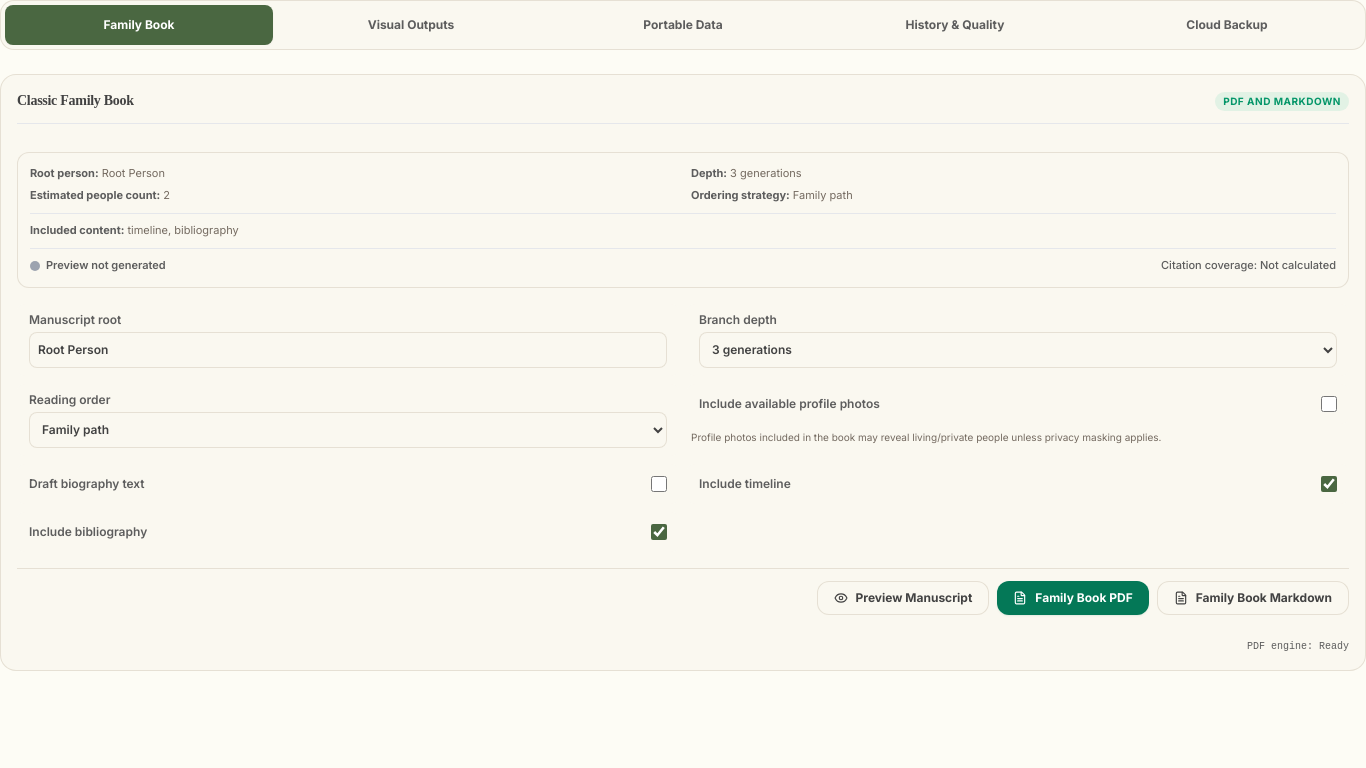
it: ExportCloudPanel cloud readiness › clears a pending cloud confirmation when the user leaves the section
Click the tab "Cloud Backup" at {"x": 1227, "y": 25}, box [1093,5,1361,45]
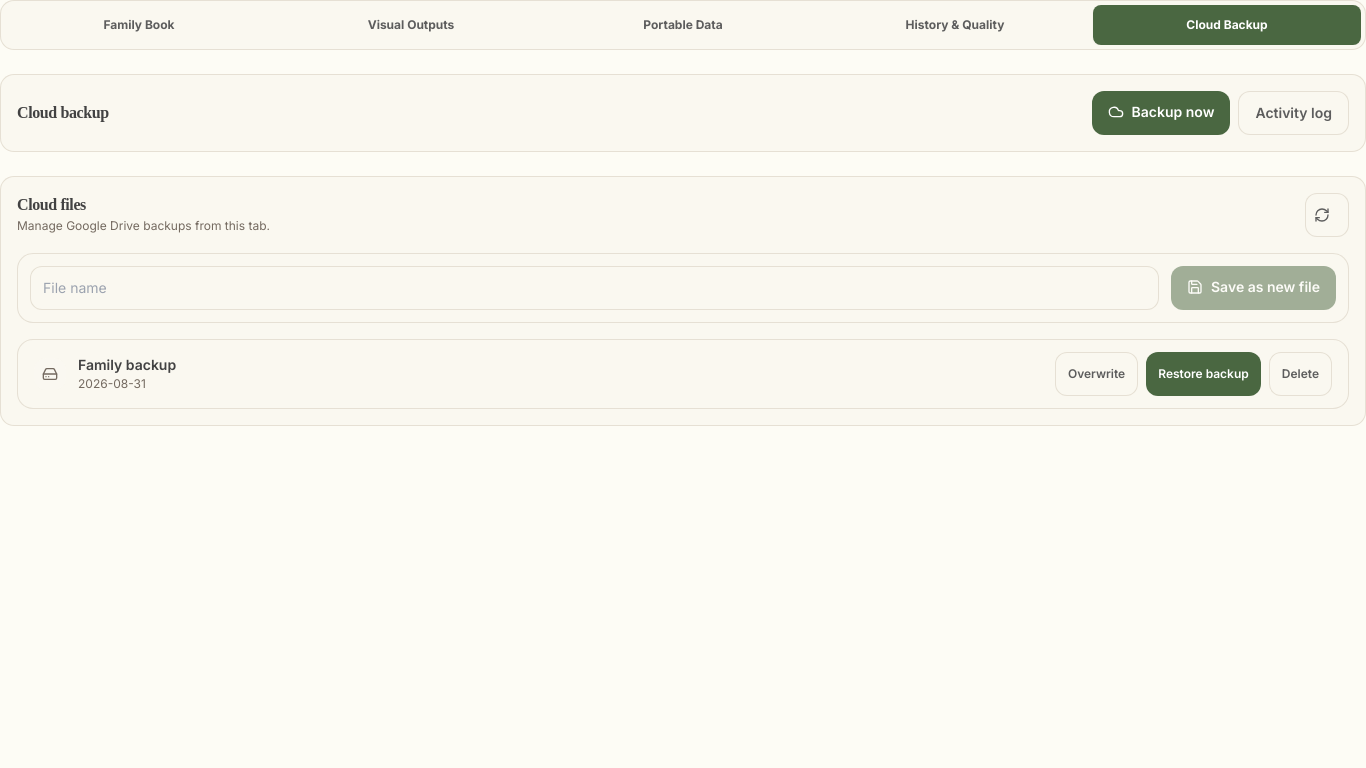
Click the button "Delete" at {"x": 1300, "y": 374}, box [1269,352,1332,396]
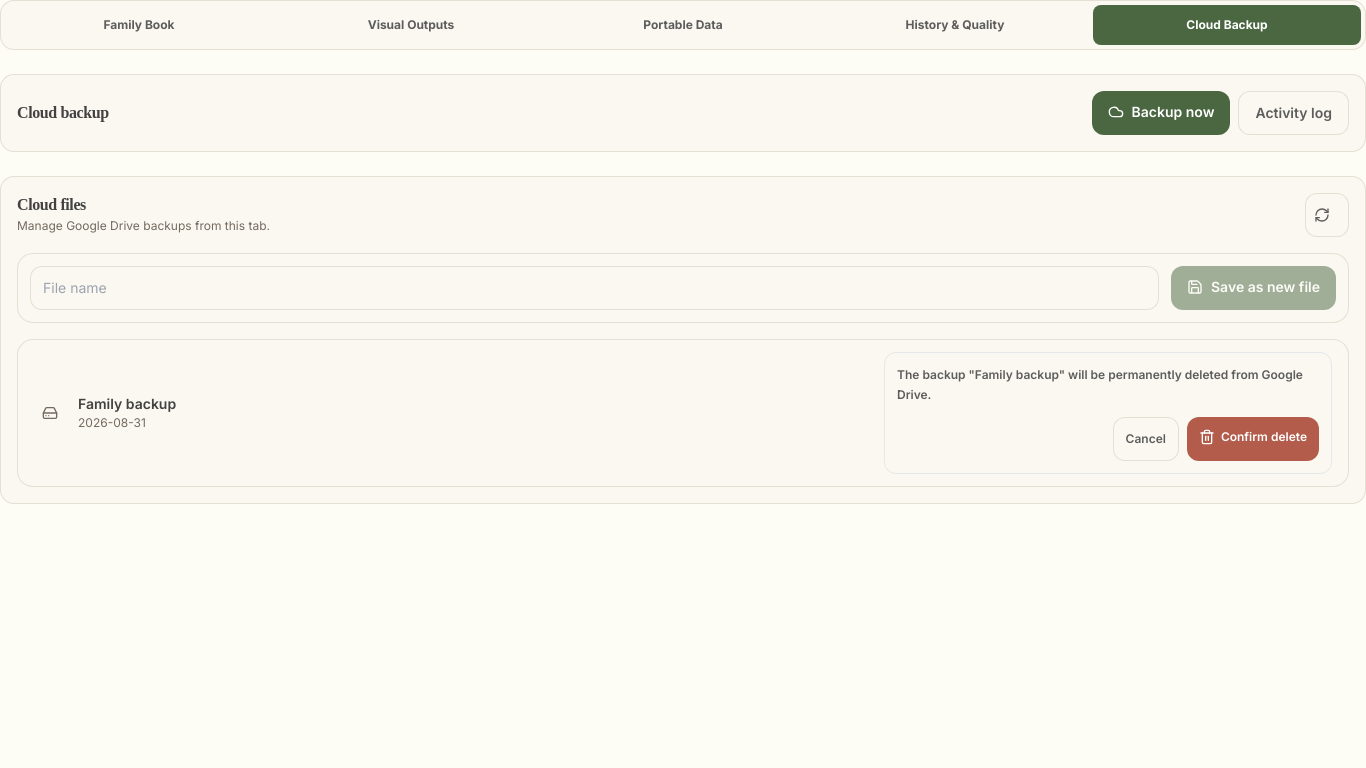
Result: the button "Confirm delete" is shown at [1187,417,1319,461]
Click the tab "Family Book" at {"x": 139, "y": 25}, box [5,5,273,45]
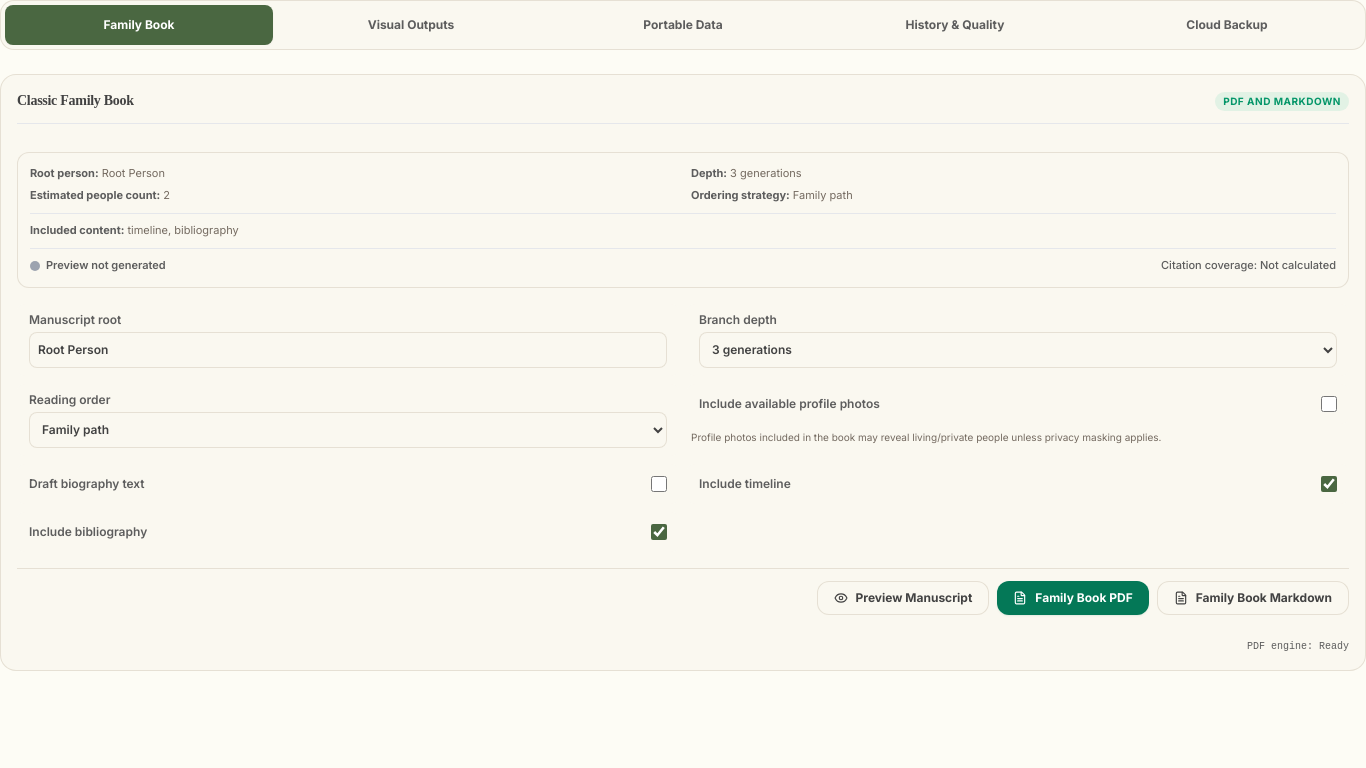
Click the tab "Cloud Backup" at {"x": 1227, "y": 25}, box [1093,5,1361,45]
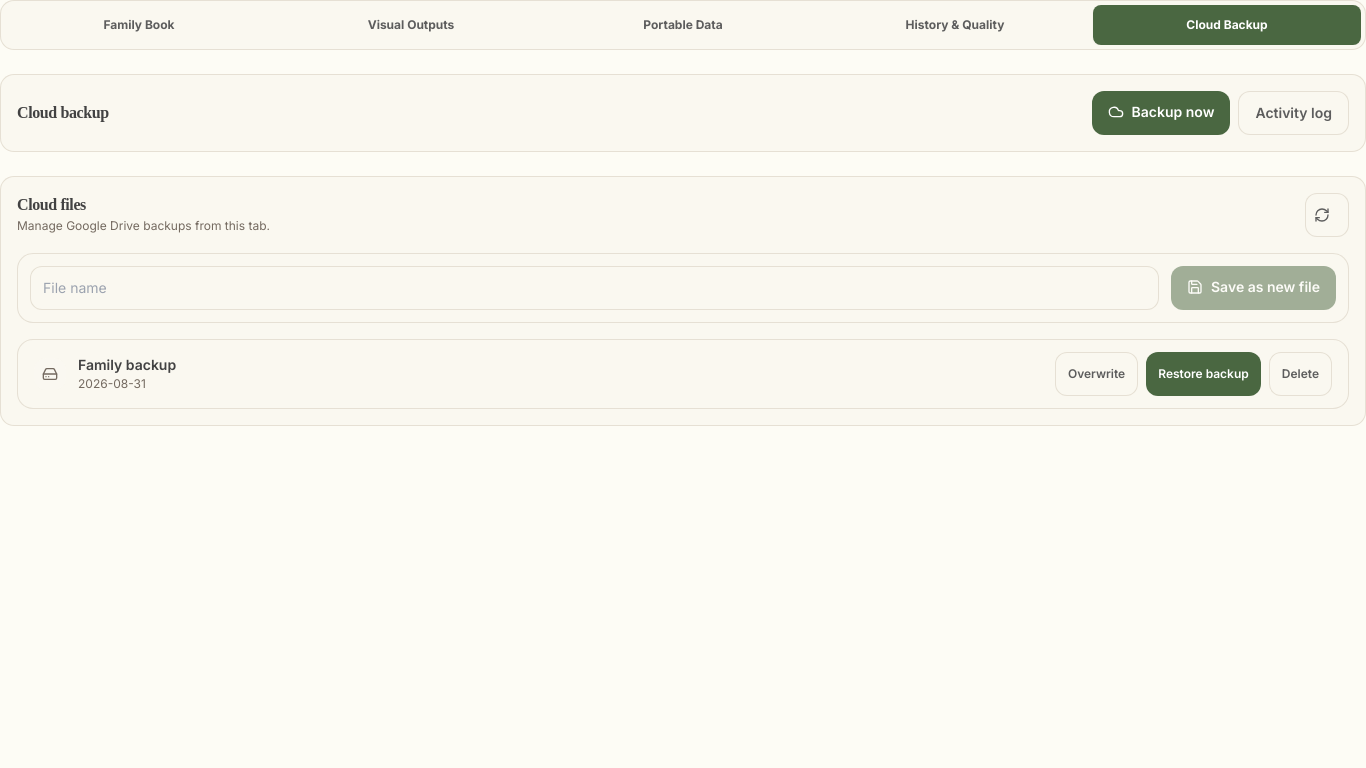
Expected: the button "Confirm delete" is not shown
Result: the button "Delete" is shown at [1269,352,1332,396]
